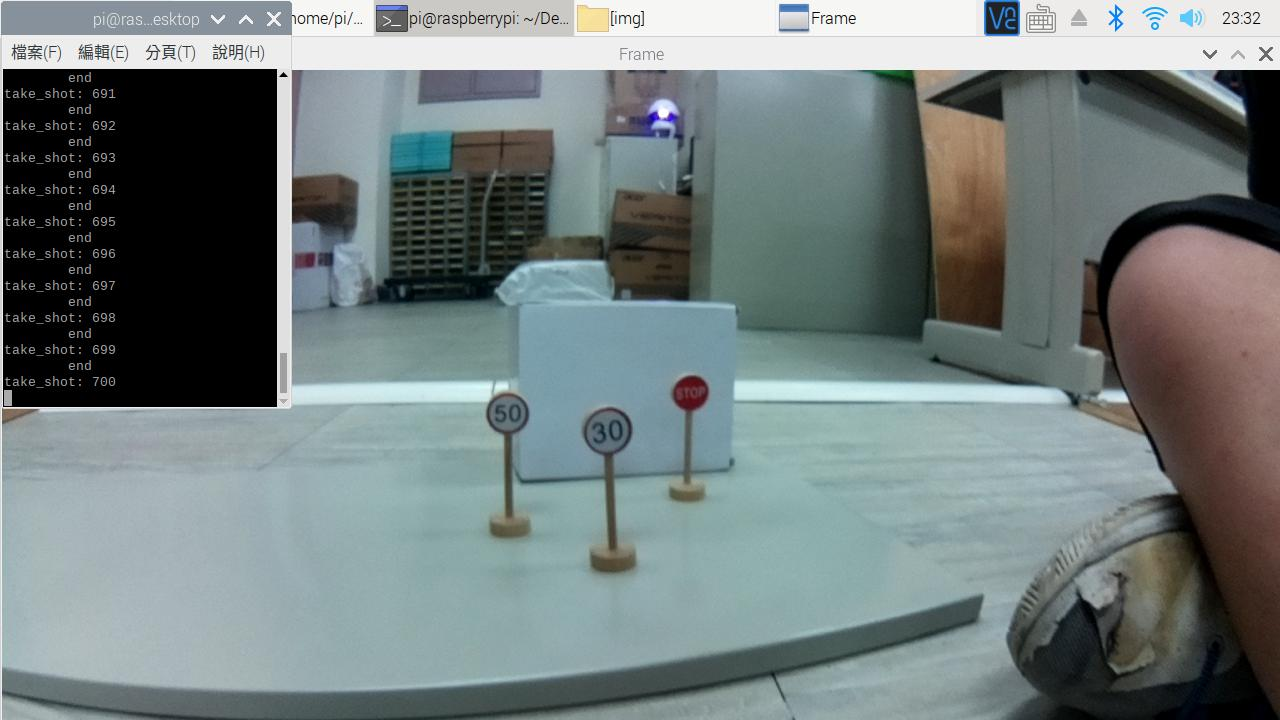Speed30: (577, 401, 647, 468)
Speed50: (482, 388, 530, 440)
Stop: (664, 359, 711, 421)
